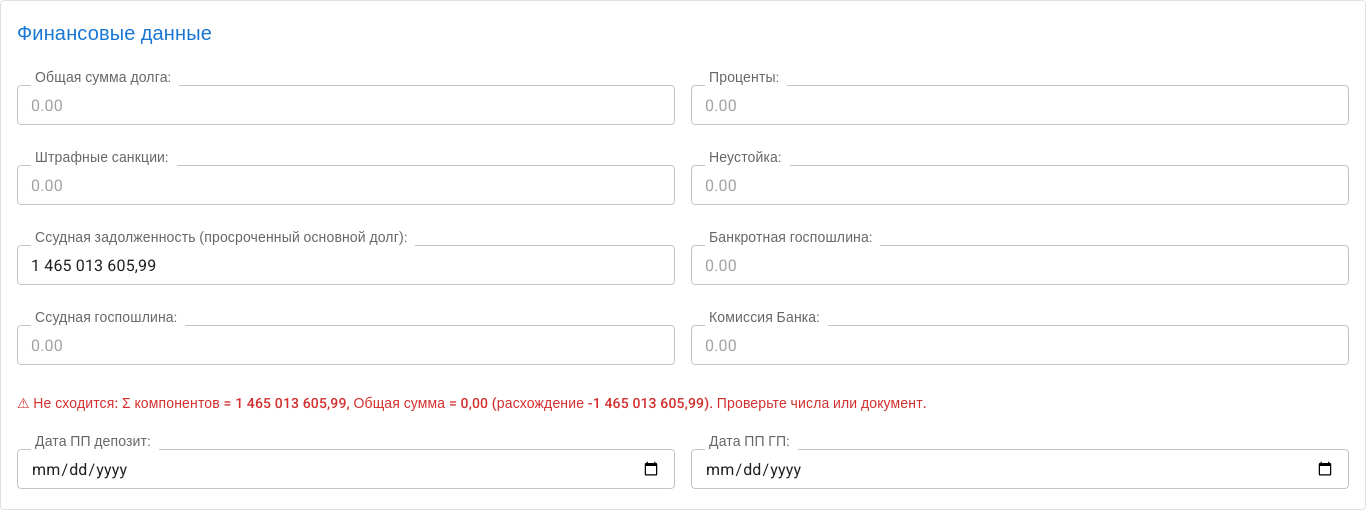
Test: FinancesSection — обычный кредитор (не ФНС) › тултип-разбивка при наведении на поле с ≥2 слагаемыми
Hover over the field showing "1 465 013 605,99" at (346,265), box [17,245,675,285]
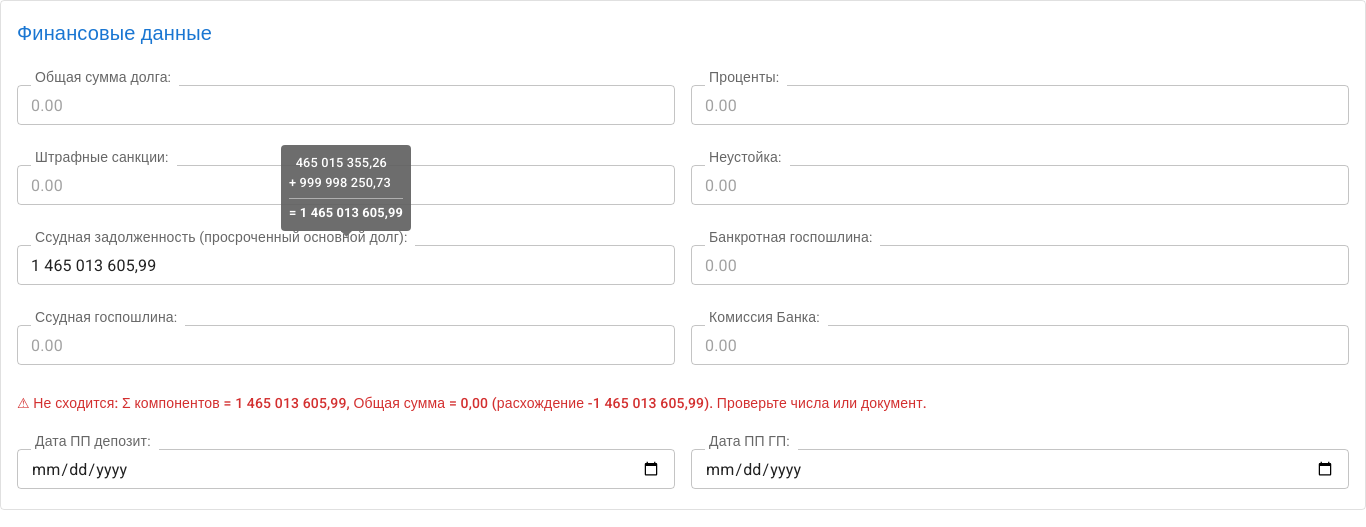
Now the text "465 015 355,26" is shown, box [296,155,387,170]
Now the text "+ 999 998 250,73" is shown, box [289,173,403,194]
